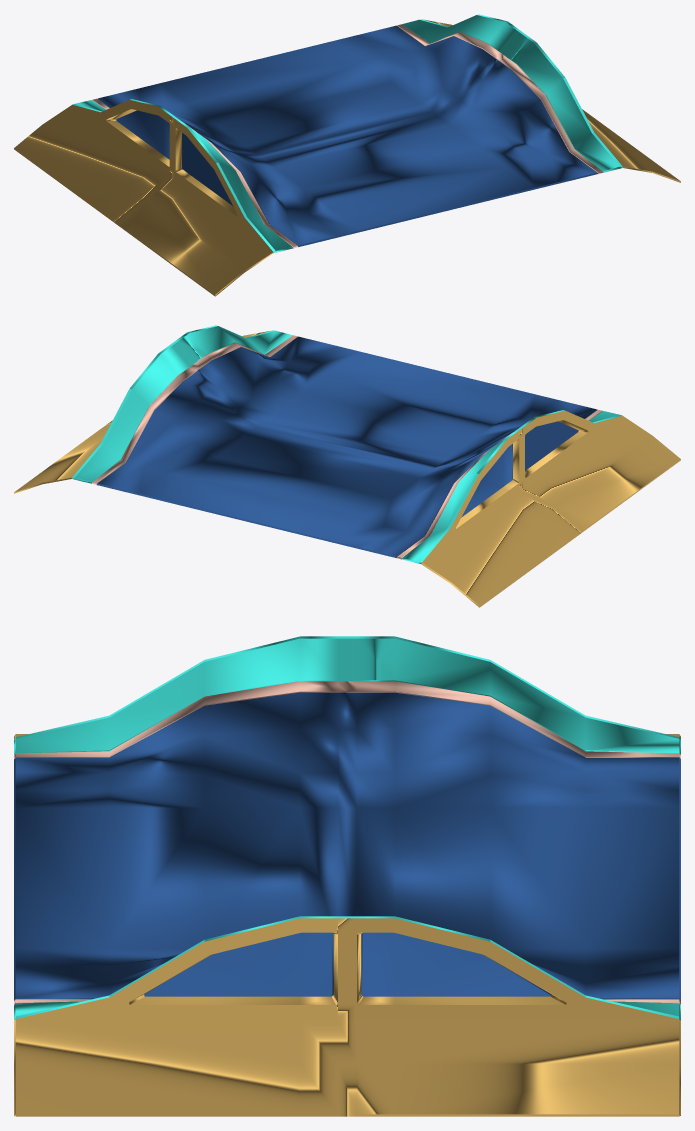
The model's file is RaceTrack_clean_business_prop_uee_10.glb.
3 renders of one model, top to bottom at view 1: azimuth 30°, elevation 25°; view 2: azimuth 150°, elevation 25°; view 3: azimuth 270°, elevation 25°, orthographic. The views are drawn at different scales.
Bounding box in the file's own units: 8 × 1.5 × 6.
